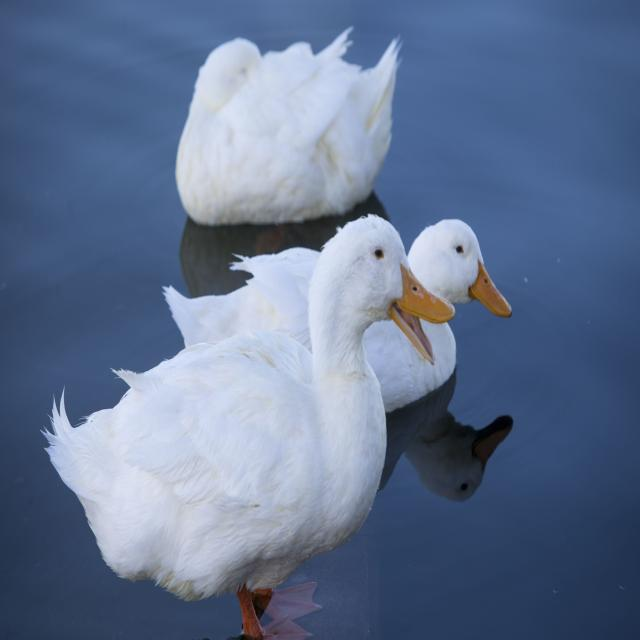Duck: (37, 209, 458, 612), (150, 208, 518, 432), (163, 22, 409, 223)
